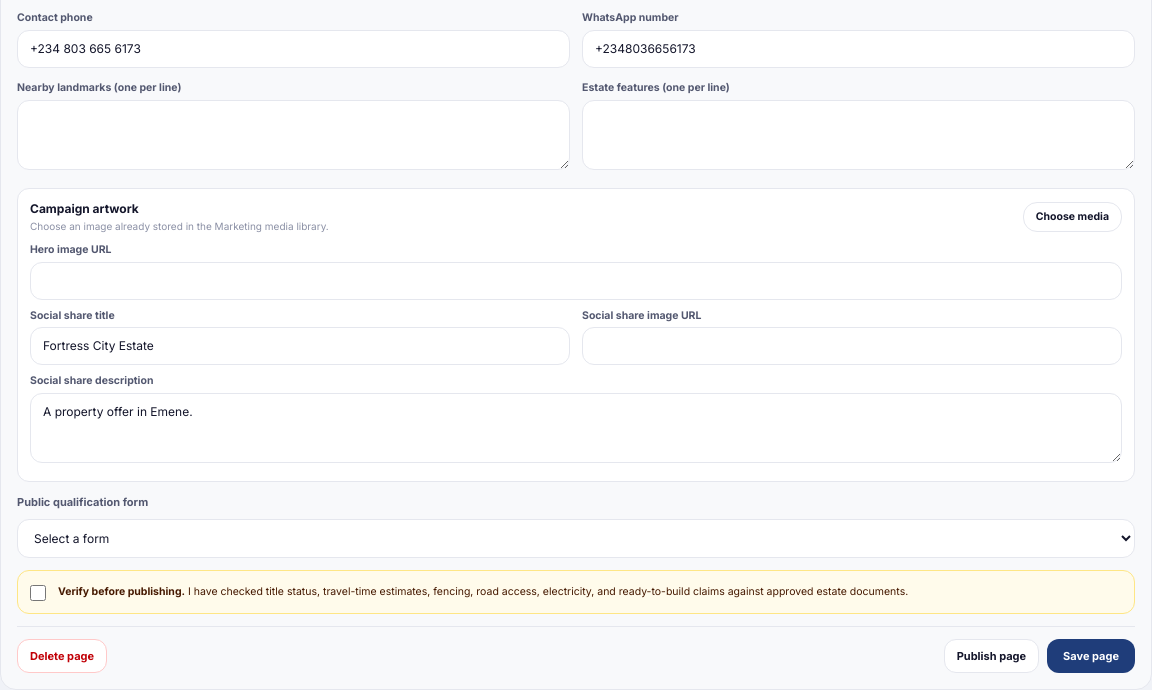
Test: CampaignPublicPagePanel › deletes the public page without deleting its campaign or lead form
(page scrolled)
Click the button "Delete page" at (62, 656), box [17,638,107,673]
(page scrolled)
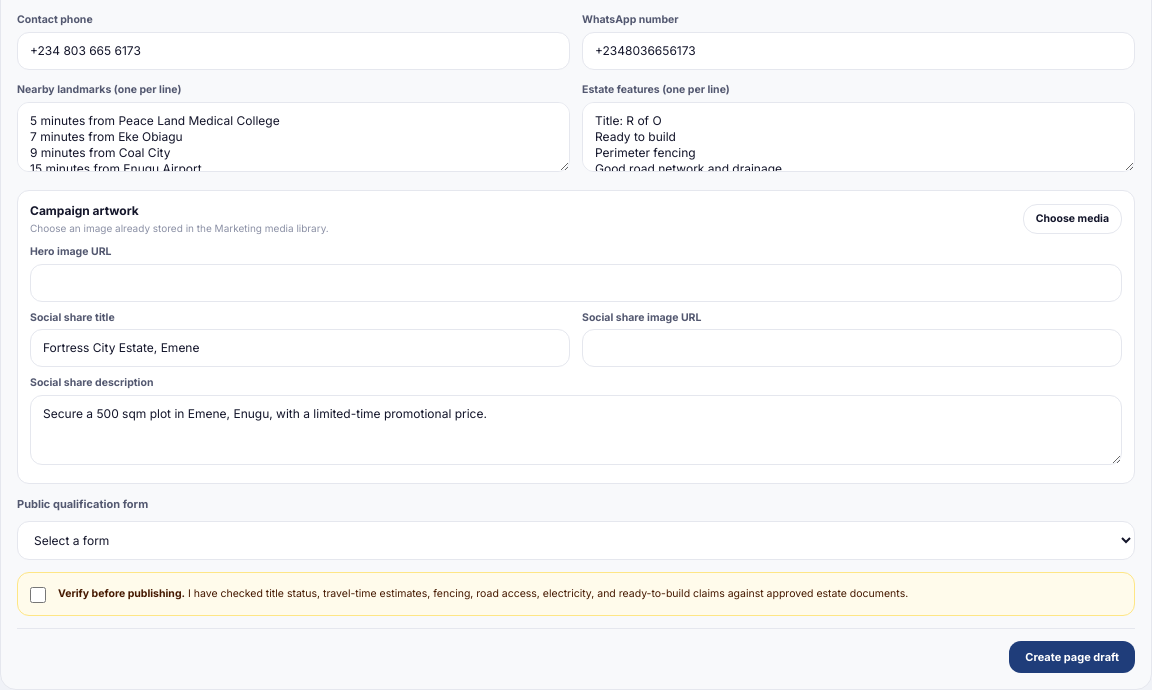
Expected: the button "Create page draft" is shown, [1009,640,1135,673]
